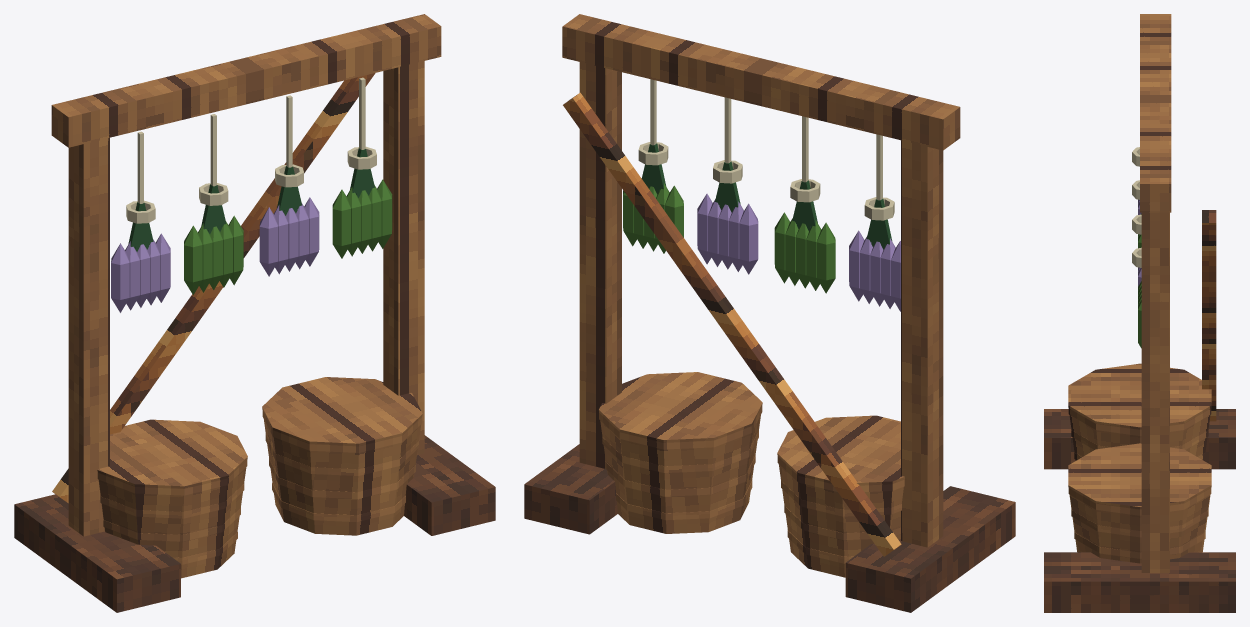
The picture shows the model from 3 angles, left to right: view 1: azimuth 30°, elevation 25°; view 2: azimuth 150°, elevation 25°; view 3: azimuth 270°, elevation 25°; orthographic projection. The views are drawn at different scales.
Parts seen in each view (by area): view 1: body_oak, body_oak_light, body_wood_dark, body_wood, body_leaf, body_cloth_lilac, body_linen, body_leaf_dark; view 2: body_oak, body_oak_light, body_wood_dark, body_wood, body_cloth_lilac, body_leaf, body_linen, body_leaf_dark; view 3: body_oak, body_wood_dark, body_oak_light, body_wood, body_linen, body_leaf.
Boxes of the visible parts, bbox=[...] form: body_oak: bbox=[68, 61, 424, 578]; body_oak_light: bbox=[51, 14, 441, 564]; body_wood_dark: bbox=[14, 435, 495, 612]; body_wood: bbox=[52, 73, 375, 503]; body_leaf: bbox=[184, 179, 392, 295]; body_cloth_lilac: bbox=[111, 197, 319, 312]; body_linen: bbox=[126, 77, 376, 223]; body_leaf_dark: bbox=[128, 148, 374, 251]; body_oak: bbox=[579, 62, 943, 577]; body_oak_light: bbox=[562, 14, 960, 563]; body_wood_dark: bbox=[524, 444, 1015, 612]; body_wood: bbox=[563, 92, 901, 556]; body_cloth_lilac: bbox=[697, 193, 900, 311]; body_leaf: bbox=[623, 183, 835, 293]; body_linen: bbox=[638, 79, 894, 220]; body_leaf_dark: bbox=[641, 143, 892, 249]; body_oak: bbox=[1068, 212, 1211, 572]; body_wood_dark: bbox=[1044, 409, 1235, 612]; body_oak_light: bbox=[1068, 14, 1211, 558]; body_wood: bbox=[1202, 210, 1216, 421]; body_linen: bbox=[1132, 147, 1141, 267]; body_leaf: bbox=[1138, 213, 1141, 348].
Bounding box in the file's own units: 1.3 × 1.5 × 0.61.
8 materials, 4 textured.
